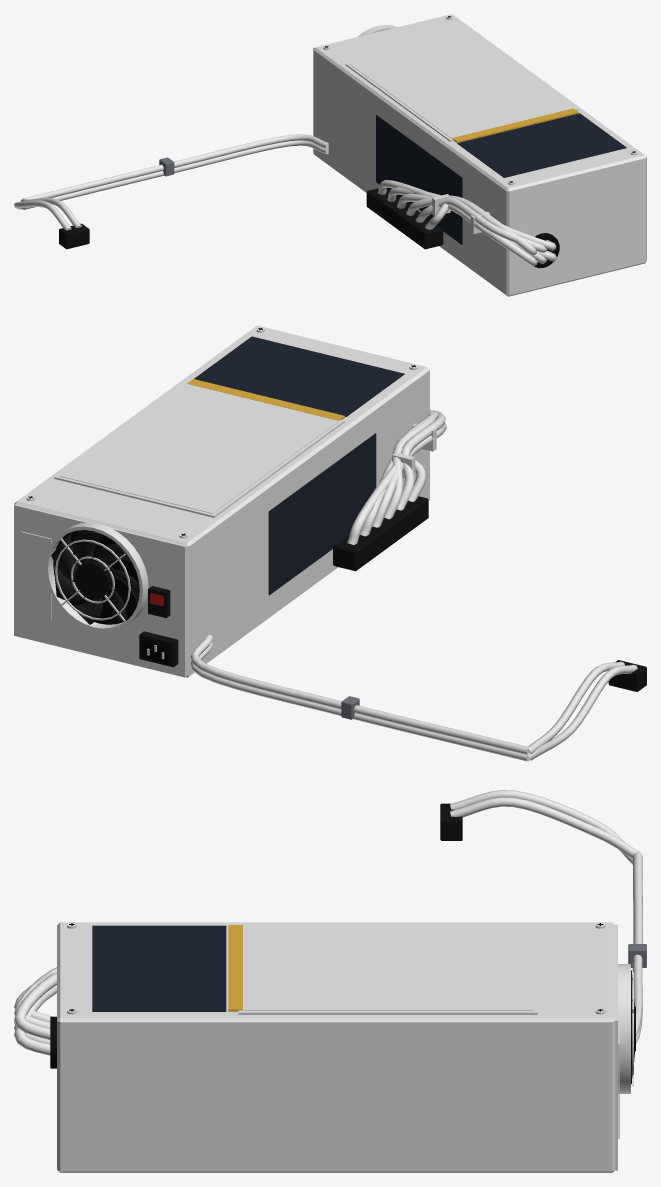
Rendered from hwm_psu_550w_gold.glb.
3 renders of one model, top to bottom at view 1: azimuth 30°, elevation 25°; view 2: azimuth 150°, elevation 25°; view 3: azimuth 270°, elevation 25°, orthographic. The views are drawn at different scales.
Visible parts, largest first — view 1: Body, Cable_ATX24, Cable_EPS_Run, Cable_EPS_Plug; view 2: Body, Cable_ATX24, Cable_EPS_Run, Cable_EPS_Plug; view 3: Body, Cable_EPS_Plug, Cable_ATX24, Cable_EPS_Run.
Part boxes in pixels (bbox=[...]): Body: bbox=[313, 14, 646, 296]; Cable_ATX24: bbox=[366, 180, 556, 265]; Cable_EPS_Run: bbox=[24, 134, 328, 209]; Cable_EPS_Plug: bbox=[14, 197, 89, 249]; Body: bbox=[14, 325, 429, 677]; Cable_ATX24: bbox=[333, 409, 446, 571]; Cable_EPS_Run: bbox=[190, 634, 529, 761]; Cable_EPS_Plug: bbox=[527, 660, 646, 760]; Body: bbox=[50, 922, 635, 1172]; Cable_EPS_Plug: bbox=[440, 790, 639, 864]; Cable_ATX24: bbox=[14, 967, 56, 1055]; Cable_EPS_Run: bbox=[628, 851, 646, 1043].
Size of the model in its own units: 0.398 by 0.0937 by 0.3401.
